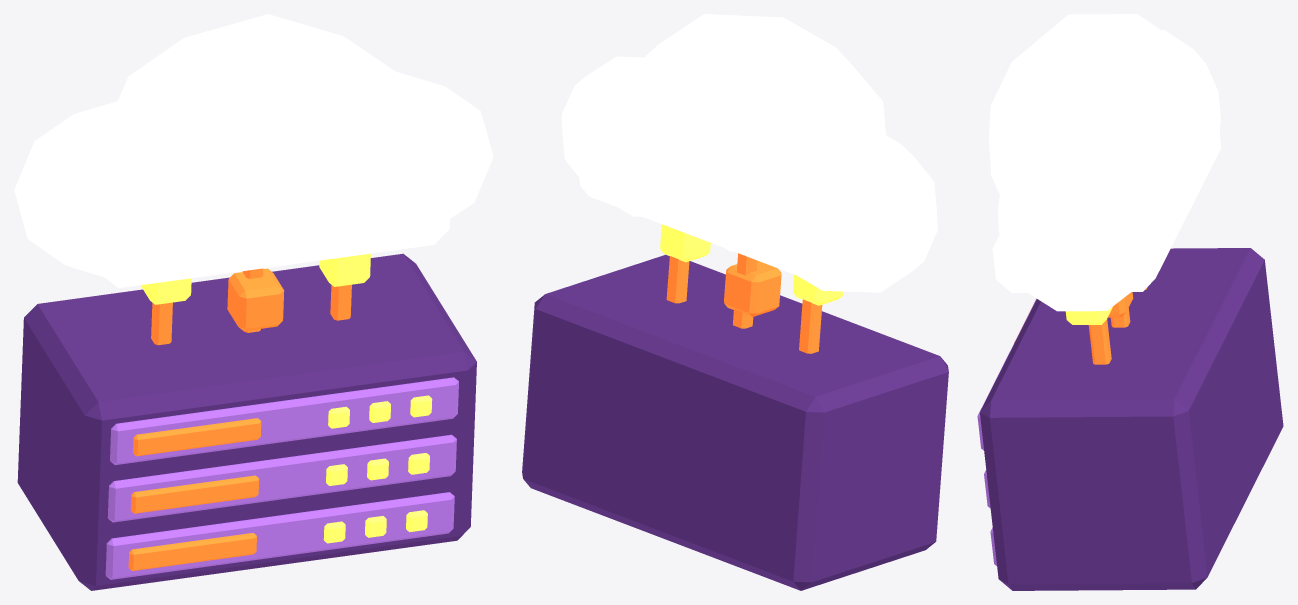
The model's file is infortux_cloud_server.glb.
The picture shows the model from 3 angles, left to right: view 1: azimuth 30°, elevation 25°; view 2: azimuth 150°, elevation 25°; view 3: azimuth 270°, elevation 25°; orthographic projection. The views are drawn at different scales.
Visible parts, largest first — view 1: Infortux_CloudServer; view 2: Infortux_CloudServer; view 3: Infortux_CloudServer.
Boxes of the visible parts, x1,y1,x2,y2 form: Infortux_CloudServer: (14,14,493,590); Infortux_CloudServer: (522,14,948,590); Infortux_CloudServer: (977,14,1283,590).
Size of the model in its own units: 2.48 by 2.92 by 1.64.
